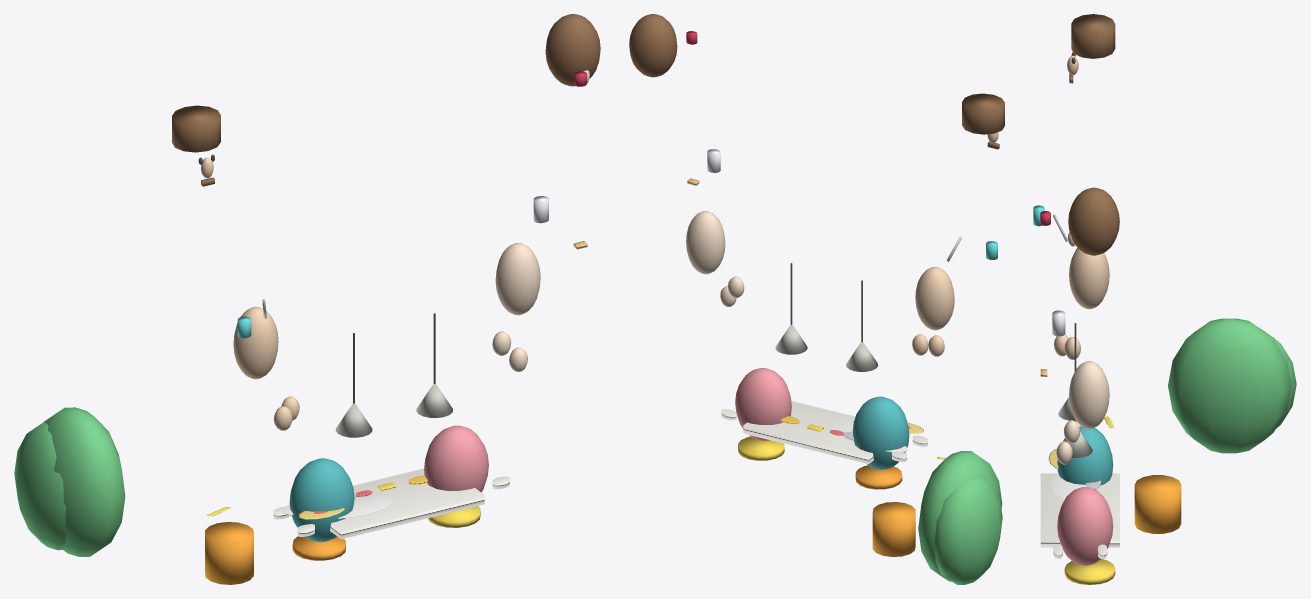
The model's file is diorama.glb.
3 views of the same model, side by side, from view 1: azimuth 30°, elevation 25°; view 2: azimuth 150°, elevation 25°; view 3: azimuth 270°, elevation 25° (orthographic). The views are drawn at different scales.
Visible parts, largest first — view 1: Sphere.014, Sphere.013, TABLE, CHARACTER_LEFT, CHARACTER_RIGHT, Sphere.004, PLANT, HEAD_RIGHT, HEAD_LEFT, Cylinder.004, CHAIR_LEFT, LAMP (+2 smaller); view 2: Sphere.013, TABLE, Sphere.014, CHARACTER_LEFT, CHARACTER_RIGHT, Sphere.004, PLANT, HEAD_RIGHT, HEAD_LEFT, Cylinder.004, CHAIR_LEFT, CHAIR_RIGHT (+2 smaller); view 3: Sphere.014, CHARACTER_RIGHT, Sphere.004, PLANT, TABLE, HEAD_RIGHT, HEAD_LEFT, CHARACTER_LEFT, Cylinder.004, CHAIR_RIGHT, Sphere.013, FOOD_PLATE (+2 smaller).
Part boxes in pixels (x1,y1,x2,y2): Sphere.014: [43, 407, 125, 556]; Sphere.013: [14, 422, 66, 550]; TABLE: [330, 468, 484, 539]; CHARACTER_LEFT: [289, 458, 354, 541]; CHARACTER_RIGHT: [424, 425, 488, 492]; Sphere.004: [545, 14, 600, 86]; PLANT: [205, 522, 253, 584]; HEAD_RIGHT: [495, 243, 540, 315]; HEAD_LEFT: [233, 306, 278, 379]; Cylinder.004: [172, 105, 220, 152]; CHAIR_LEFT: [292, 536, 345, 560]; LAMP: [335, 403, 372, 437]; Sphere.013: [934, 477, 1002, 584]; TABLE: [743, 401, 873, 463]; Sphere.014: [918, 451, 1002, 581]; CHARACTER_LEFT: [852, 396, 909, 469]; CHARACTER_RIGHT: [735, 368, 791, 441]; Sphere.004: [629, 14, 677, 77]; PLANT: [872, 502, 915, 556]; HEAD_RIGHT: [686, 211, 725, 274]; HEAD_LEFT: [915, 267, 954, 330]; Cylinder.004: [962, 93, 1004, 134]; CHAIR_LEFT: [855, 465, 902, 489]; CHAIR_RIGHT: [738, 436, 784, 460]; Sphere.014: [1168, 318, 1291, 453]; CHARACTER_RIGHT: [1057, 487, 1113, 565]; Sphere.004: [1068, 187, 1119, 255]; PLANT: [1134, 475, 1181, 533]; TABLE: [1040, 473, 1119, 547]; HEAD_RIGHT: [1069, 361, 1109, 429]; HEAD_LEFT: [1069, 248, 1109, 309]; CHARACTER_LEFT: [1057, 426, 1113, 485]; Cylinder.004: [1071, 14, 1115, 58]; CHAIR_RIGHT: [1064, 559, 1115, 584]; Sphere.013: [1260, 328, 1296, 428]; FOOD_PLATE: [1051, 473, 1086, 499].
Size of the model in its own units: 5.49 by 5.42 by 2.72.
